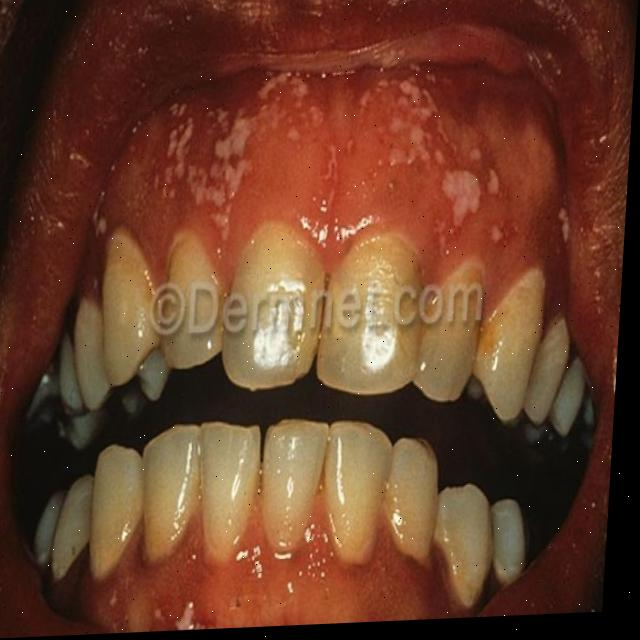Shingles: (163, 71, 514, 231)
